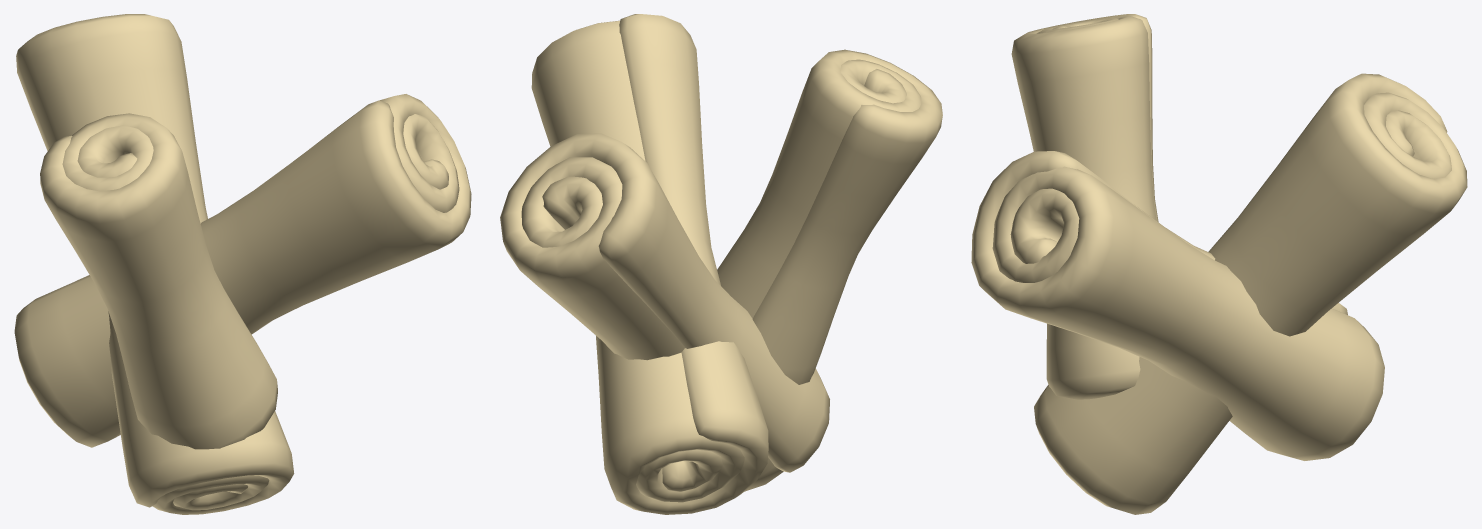
File: Farmhouse_ROOM_parchoment_v01.glb
3 renders of one model, left to right at view 1: azimuth 30°, elevation 25°; view 2: azimuth 150°, elevation 25°; view 3: azimuth 270°, elevation 25°, orthographic.
Visible parts, largest first — view 1: Farmhouse_ROOM_parchoment_v01; view 2: Farmhouse_ROOM_parchoment_v01; view 3: Farmhouse_ROOM_parchoment_v01.
Part boxes in pixels (<box>): Farmhouse_ROOM_parchoment_v01: <box>14,14,471,514</box>; Farmhouse_ROOM_parchoment_v01: <box>500,14,942,514</box>; Farmhouse_ROOM_parchoment_v01: <box>971,14,1467,514</box>.
Bounding box in the file's own units: 0.6012 × 0.6111 × 0.6292.
